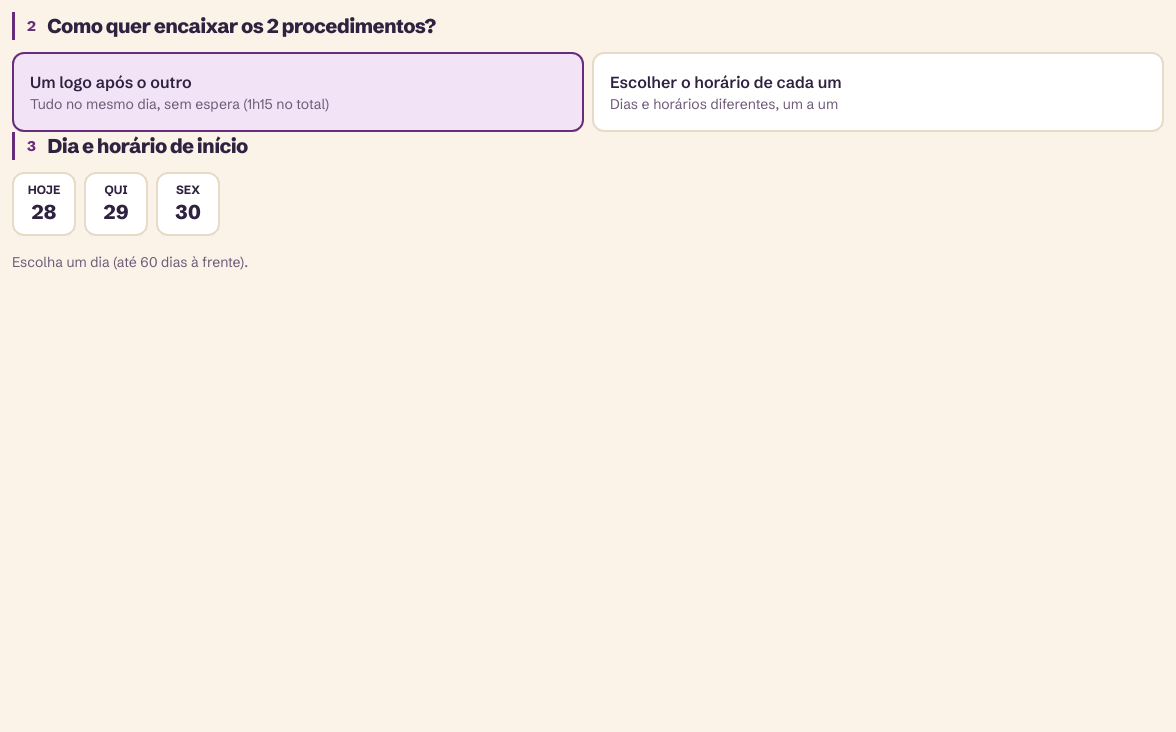
CartFlow: um logo após o outro › dia sem encaixe avisa; trocar de dia desfaz a escolha
The width and height of the screenshot is (1176, 732).
Step 1. Click the button with aria-label "Dia 29/10" → (116, 204), box left=84, top=172, right=148, bottom=236
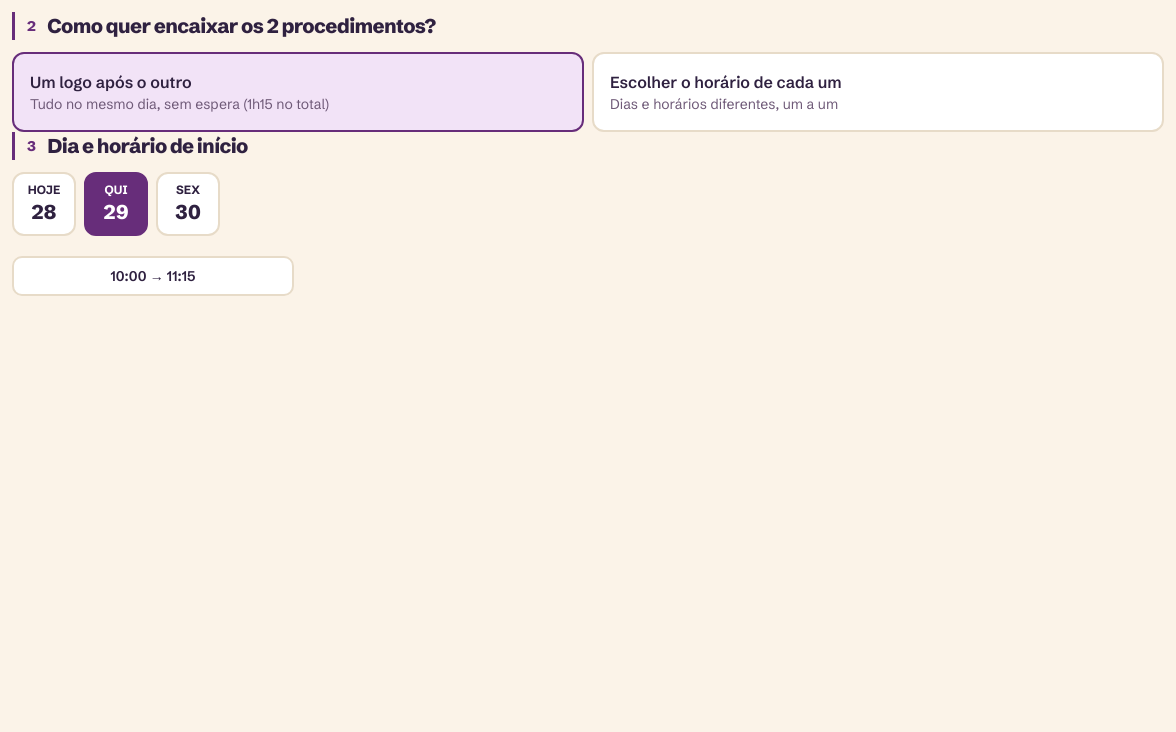
Step 2. Click the button named "Começar às 10:00" → (153, 276), box left=12, top=256, right=294, bottom=296
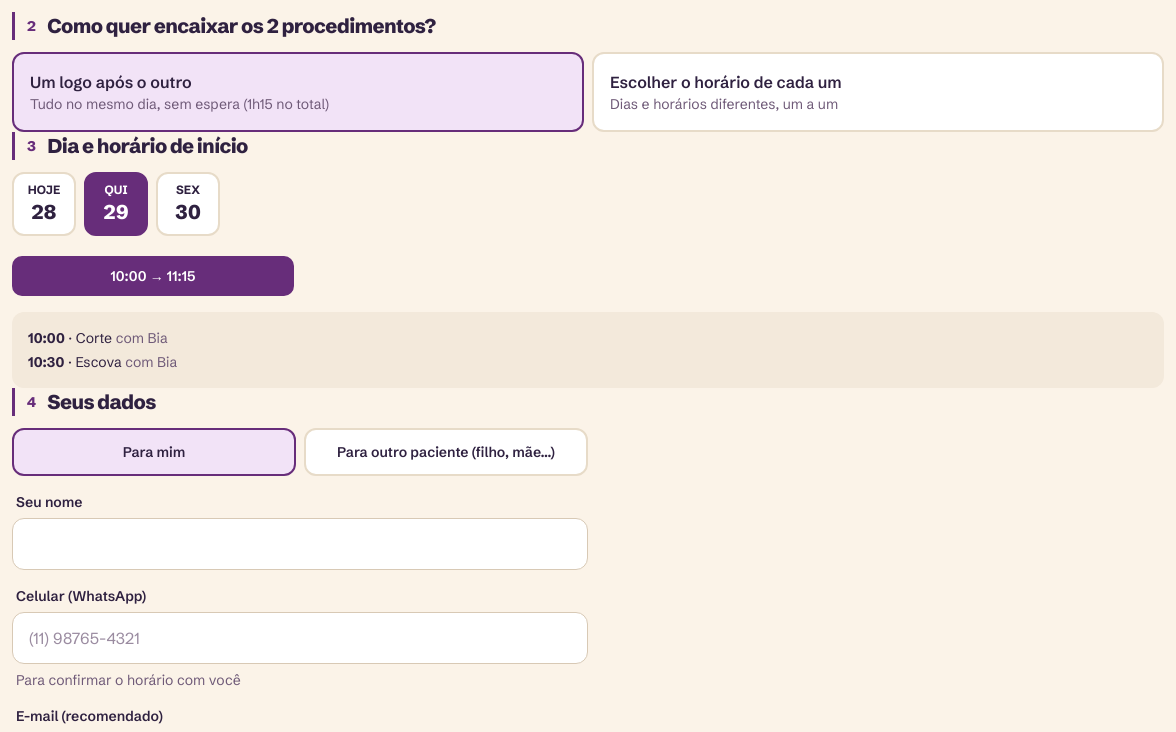
Expected: the heading "4 Seus dados" is shown, left=12, top=388, right=1164, bottom=416
Step 3. Click the button with aria-label "Dia 30/10" → (188, 204), box left=156, top=172, right=220, bottom=236
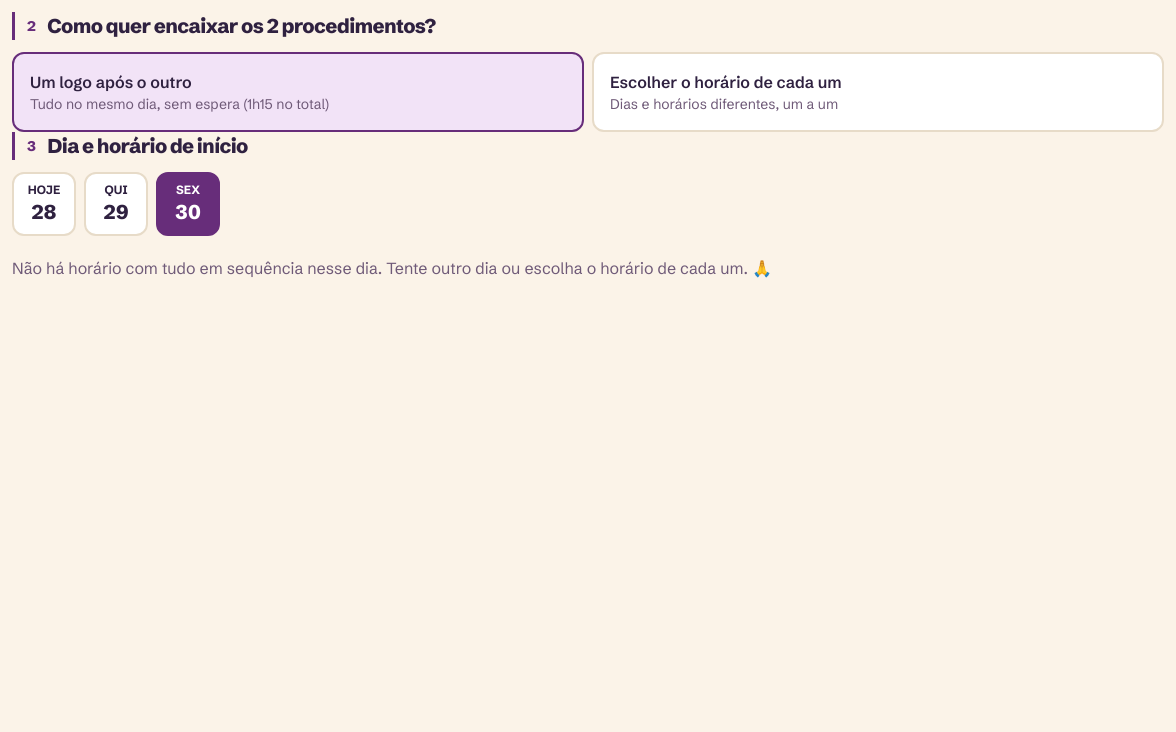
Expected: the heading "Seus dados" is gone
Expected: the text "Não há horário com tudo em sequência" is shown, left=12, top=258, right=772, bottom=278
